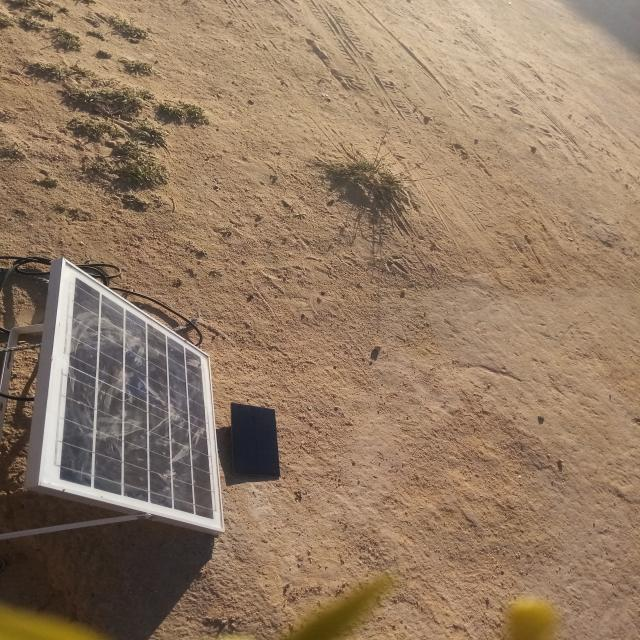faulty: (37, 257, 224, 532)
no faulty: (232, 403, 280, 476)
